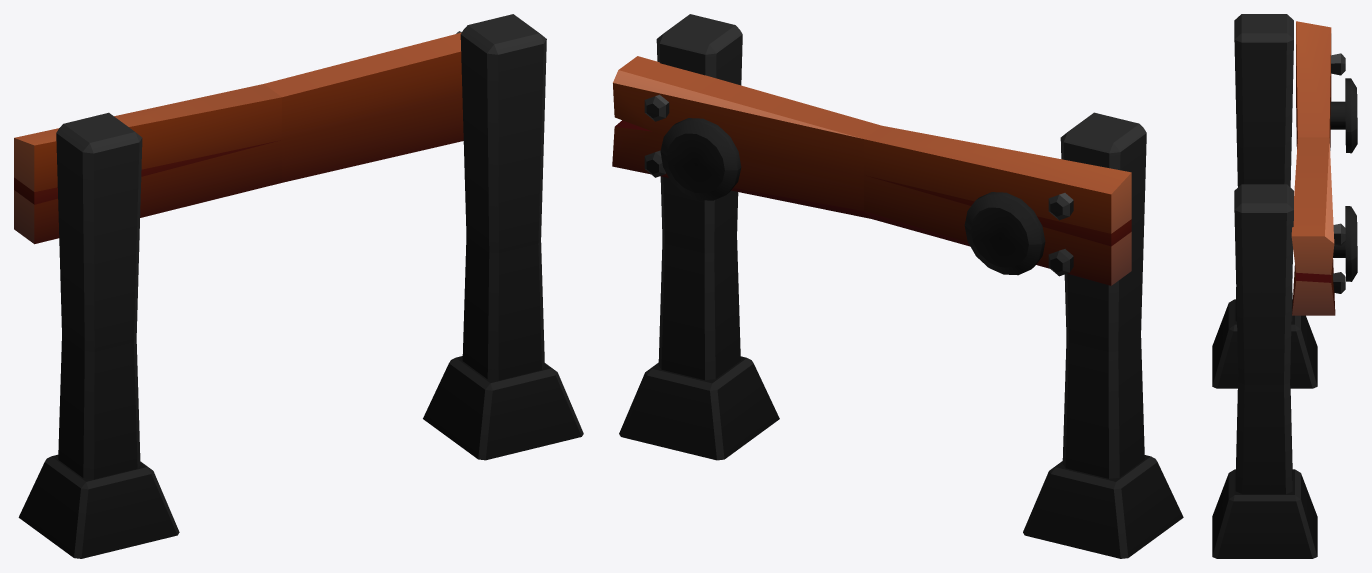
Rendered from barrier.fbx.
3 views of the same model, side by side, from view 1: azimuth 30°, elevation 25°; view 2: azimuth 150°, elevation 25°; view 3: azimuth 270°, elevation 25° (orthographic). The views are drawn at different scales.
Parts seen in each view (by area): view 1: barrier; view 2: barrier; view 3: barrier.
Boxes of the visible parts, x1,y1,x2,y2 form: barrier: (14, 14, 583, 558); barrier: (612, 14, 1183, 558); barrier: (1212, 14, 1357, 558).
Bounding box in the file's own units: 2.36 × 1.76 × 0.6753.
